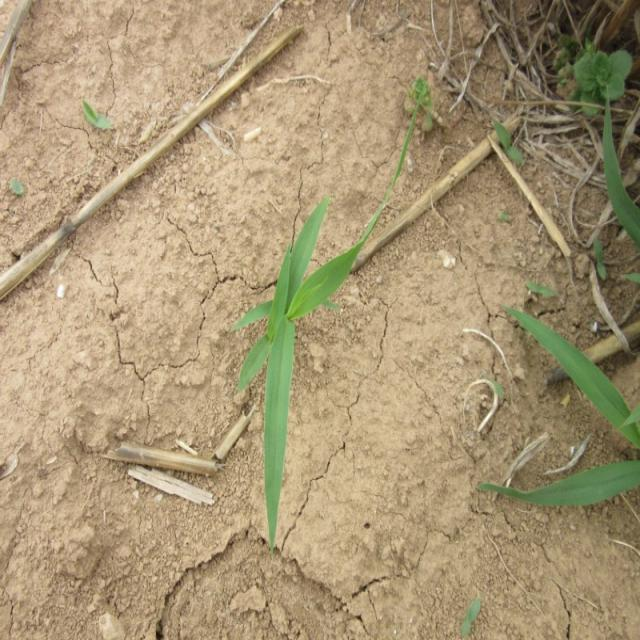bg: (231, 191, 365, 548)
